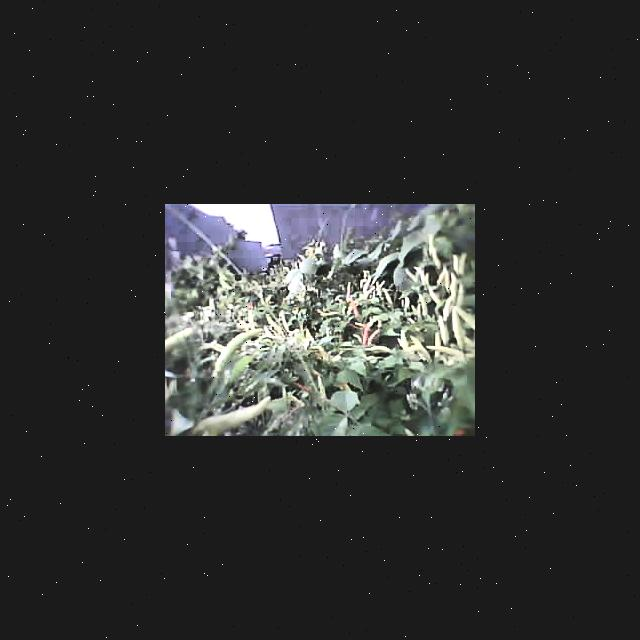Cabai: (359, 324, 374, 345)
